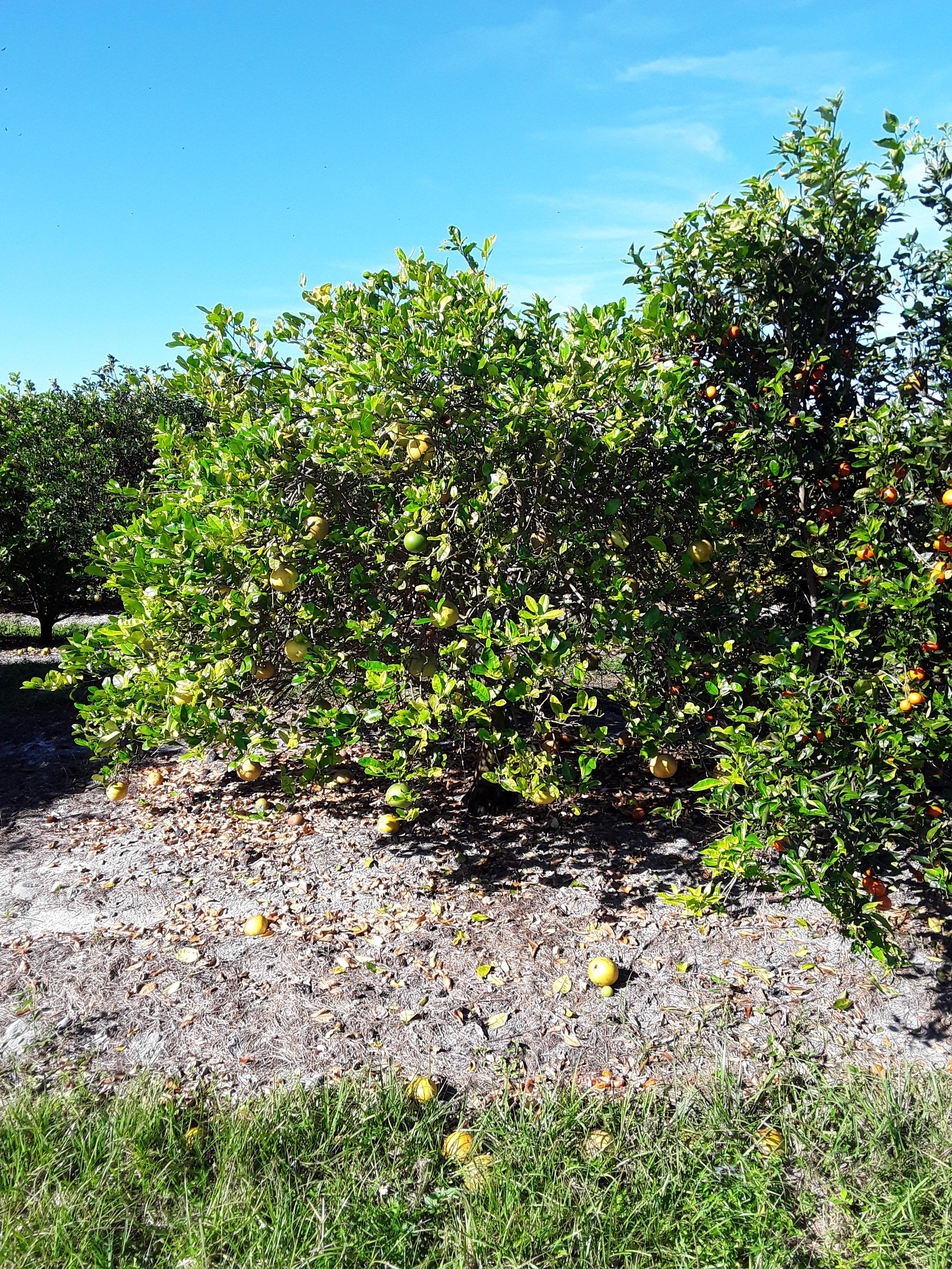fruit_on_ground: (405, 648, 440, 680), (428, 597, 460, 629), (404, 432, 437, 463), (267, 563, 301, 593), (282, 633, 314, 664), (602, 519, 634, 549), (648, 750, 679, 780), (301, 512, 332, 542), (385, 418, 416, 447), (383, 779, 414, 808), (685, 537, 714, 565), (528, 781, 558, 806), (376, 811, 407, 835), (401, 529, 428, 556), (898, 370, 926, 396), (528, 526, 557, 551), (236, 757, 263, 782), (169, 685, 194, 708), (250, 659, 275, 681), (618, 574, 641, 597), (105, 780, 129, 802), (927, 562, 949, 586), (931, 529, 952, 554), (770, 832, 794, 853), (855, 541, 879, 562), (805, 358, 827, 380), (540, 738, 561, 760), (579, 650, 600, 671), (919, 634, 941, 654), (877, 484, 899, 504), (555, 729, 576, 749), (924, 801, 945, 820), (858, 570, 880, 588), (834, 459, 854, 478), (906, 664, 927, 682), (838, 595, 860, 612), (889, 461, 908, 480), (790, 372, 809, 390), (616, 729, 634, 747), (701, 382, 719, 400), (816, 504, 833, 523), (908, 689, 928, 705), (838, 343, 856, 360), (784, 412, 802, 429), (828, 501, 845, 519), (825, 476, 843, 492), (760, 475, 777, 491), (896, 696, 912, 713), (726, 323, 742, 340), (805, 381, 821, 397), (750, 500, 766, 516), (940, 487, 952, 508), (725, 516, 740, 532), (853, 596, 869, 611), (812, 727, 827, 743), (874, 720, 889, 735), (748, 398, 764, 411), (796, 731, 810, 745), (780, 688, 794, 702), (758, 383, 772, 396), (724, 418, 738, 431), (669, 684, 682, 696), (92, 591, 104, 603), (716, 425, 728, 437), (703, 711, 716, 722)
fruit_on_tree: (460, 1156, 499, 1196), (440, 1128, 478, 1164), (586, 954, 620, 988), (581, 1127, 615, 1160), (405, 1073, 438, 1107), (754, 1125, 786, 1159), (180, 1123, 208, 1152), (374, 811, 404, 837), (241, 912, 270, 938), (236, 757, 263, 783), (770, 830, 794, 853), (588, 1073, 612, 1093), (872, 893, 892, 913), (550, 872, 573, 888), (657, 1047, 675, 1065), (868, 879, 886, 897), (629, 804, 647, 822), (332, 769, 352, 785), (253, 796, 271, 813), (285, 811, 304, 827), (145, 771, 164, 787), (861, 875, 879, 891), (600, 985, 615, 999), (42, 647, 50, 654), (16, 648, 24, 655), (40, 650, 47, 656)
